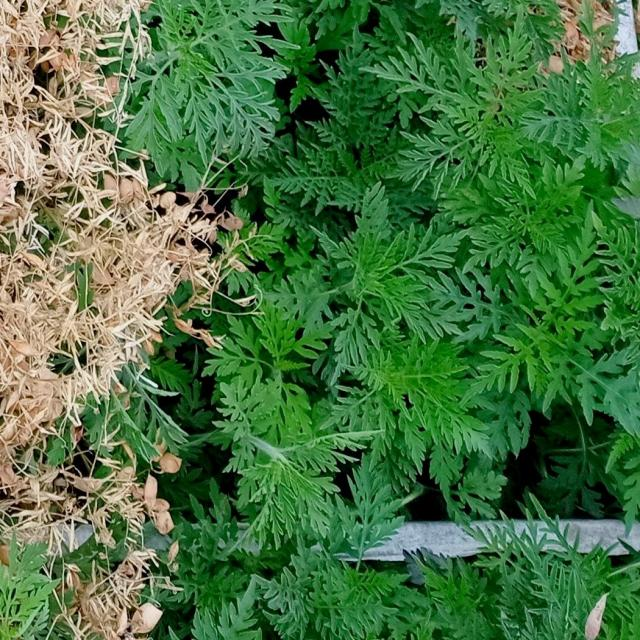AMBEL: (81, 0, 295, 183), (275, 168, 473, 359), (500, 225, 640, 466), (365, 11, 551, 191), (215, 384, 352, 542), (347, 331, 506, 466), (552, 20, 640, 192)
